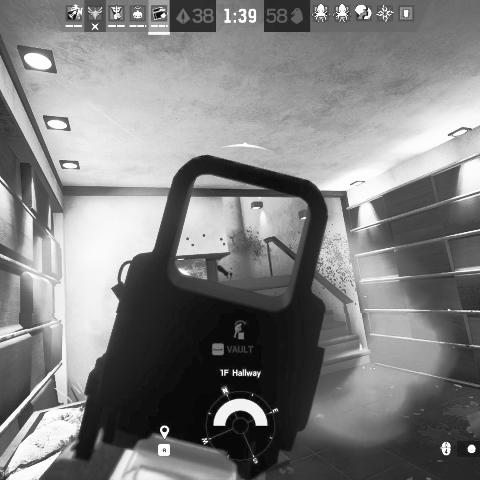Character: (217, 262, 233, 281)
